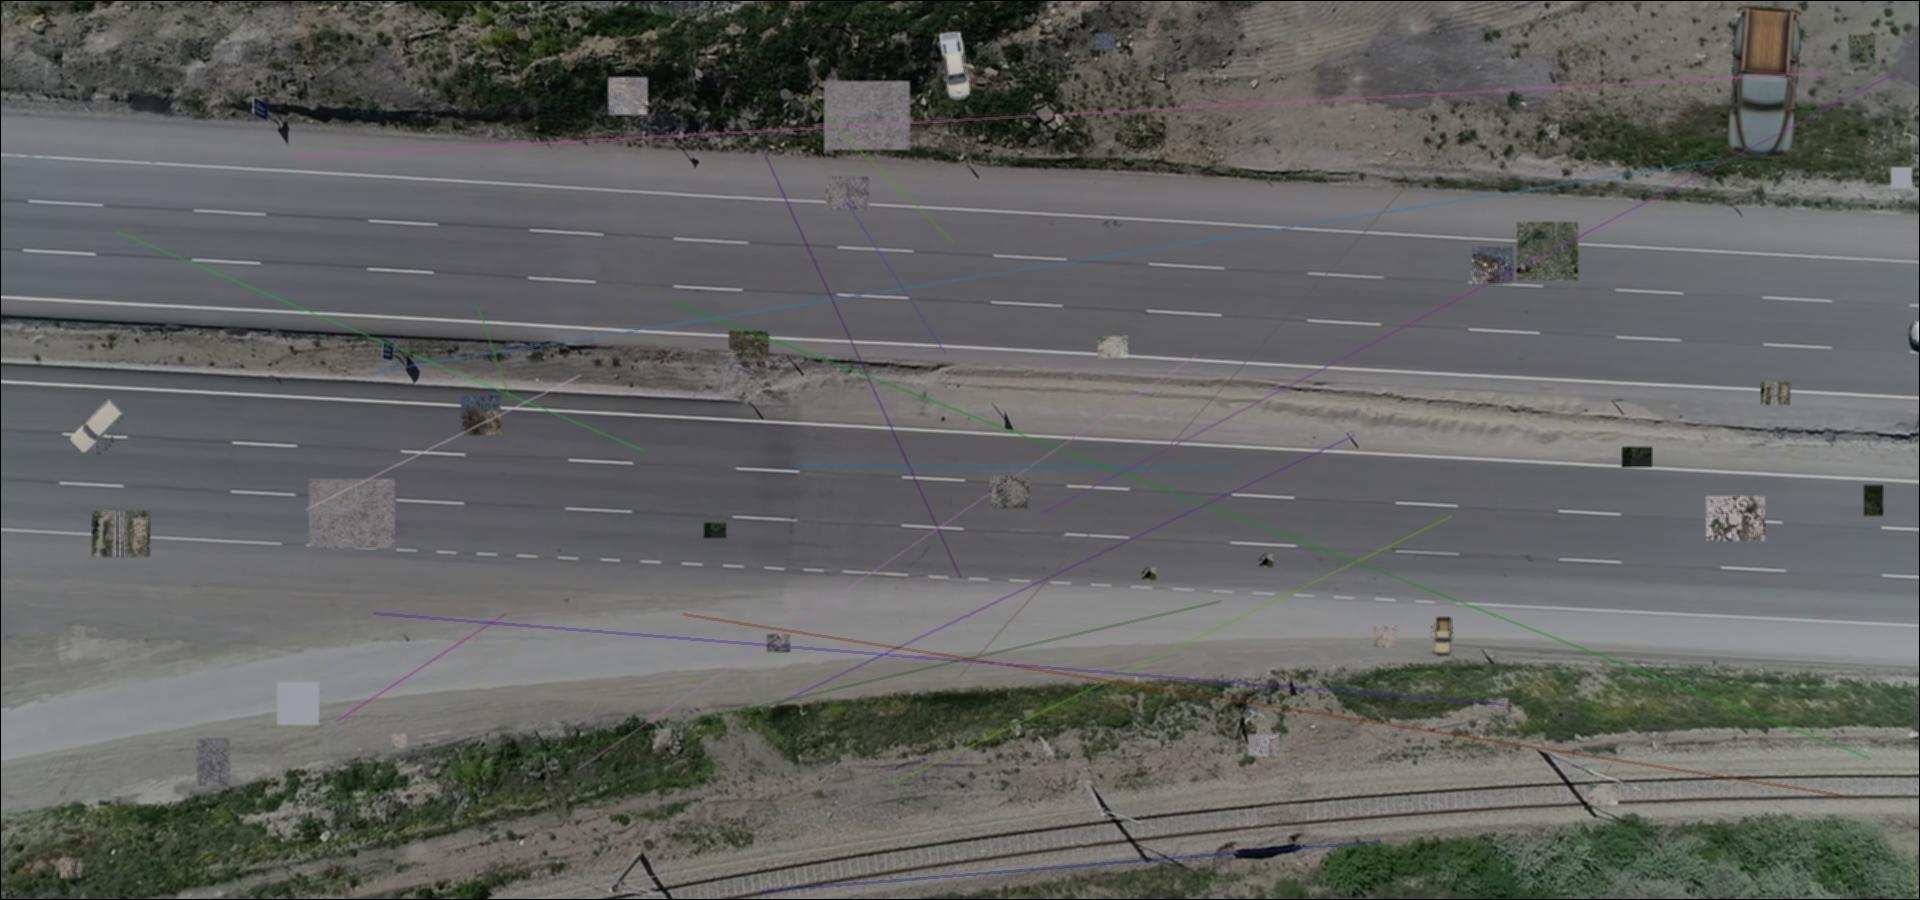arac: (1727, 6, 1801, 159), (66, 399, 125, 454), (936, 32, 975, 100), (1431, 615, 1453, 656)
